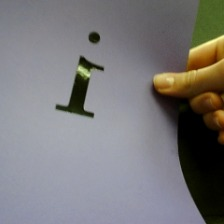violet1: (48, 25, 115, 124)
